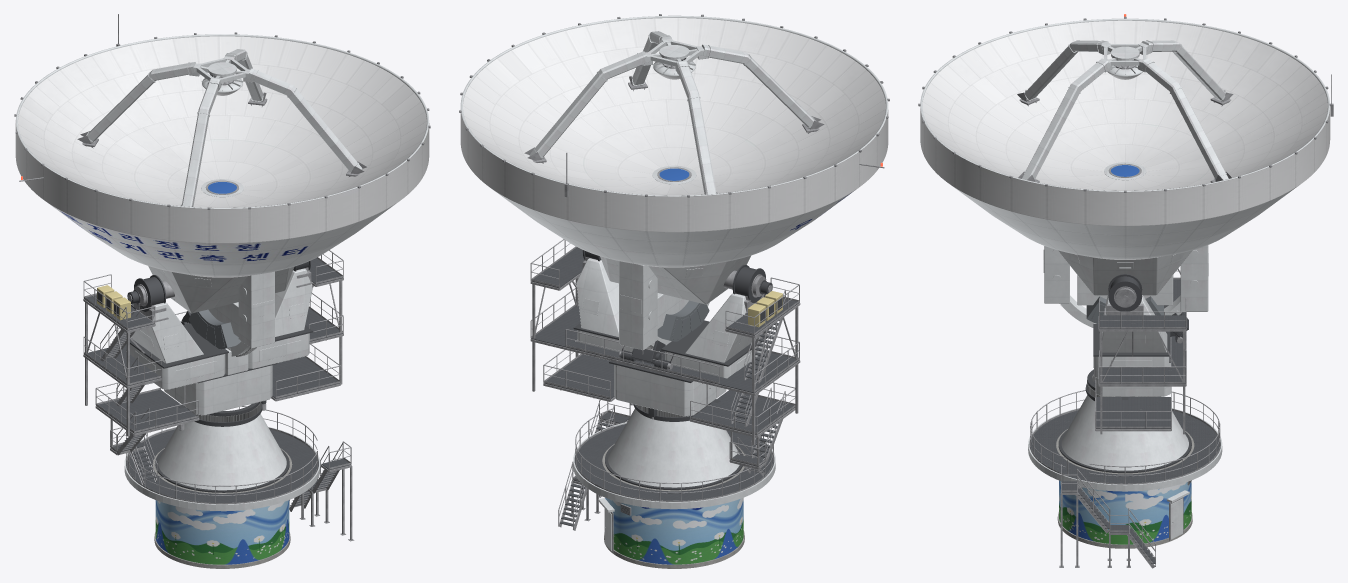
Rendered from sejong22m.glb.
The picture shows the model from 3 angles, left to right: view 1: azimuth 30°, elevation 25°; view 2: azimuth 150°, elevation 25°; view 3: azimuth 270°, elevation 25°; orthographic projection. The views are drawn at different scales.
Visible parts, largest first — view 1: Reflector, Dish_RimBand, Access_Decks, Dish_Back, Pedestal_Cone, Base_Mural, Balcony, El_Girders, Alidade_Box, Hub_Frame, Dish_Lip, Yoke_L (+17 smaller); view 2: Reflector, Access_Decks, Dish_RimBand, Dish_Back, Pedestal_Cone, Base_Mural, Balcony, El_Girders, Alidade_Box, Hub_Frame, Yoke_R, Dish_Lip (+15 smaller); view 3: Reflector, Dish_RimBand, Dish_Back, Access_Decks, Balcony, Base_Mural, Pedestal_Cone, El_Girders, Hub_Frame, Ground_Stair, Dish_Lip, Quadrupod_0 (+13 smaller).
Part boxes in pixels (<box>): Reflector: <box>18,36,426,207</box>; Dish_RimBand: <box>15,123,429,243</box>; Access_Decks: <box>83,250,343,484</box>; Dish_Back: <box>47,202,396,277</box>; Pedestal_Cone: <box>158,414,286,490</box>; Base_Mural: <box>155,500,289,564</box>; Balcony: <box>124,406,320,511</box>; El_Girders: <box>208,271,274,348</box>; Alidade_Box: <box>164,365,272,415</box>; Hub_Frame: <box>148,266,294,313</box>; Dish_Lip: <box>15,34,429,208</box>; Yoke_L: <box>131,303,203,363</box>; Reflector: <box>463,18,885,196</box>; Access_Decks: <box>530,239,800,477</box>; Dish_RimBand: <box>460,110,888,232</box>; Dish_Back: <box>494,190,854,267</box>; Pedestal_Cone: <box>608,408,739,487</box>; Base_Mural: <box>605,498,743,564</box>; Balcony: <box>573,408,775,509</box>; El_Girders: <box>619,261,688,350</box>; Alidade_Box: <box>614,364,726,416</box>; Hub_Frame: <box>600,255,750,304</box>; Yoke_R: <box>576,258,618,336</box>; Dish_Lip: <box>460,15,888,196</box>; Reflector: <box>922,20,1327,191</box>; Dish_RimBand: <box>920,106,1330,225</box>; Dish_Back: <box>952,186,1297,259</box>; Access_Decks: <box>1095,268,1186,434</box>; Balcony: <box>1028,390,1222,491</box>; Base_Mural: <box>1059,480,1191,544</box>; Pedestal_Cone: <box>1061,395,1188,470</box>; El_Girders: <box>1043,245,1208,311</box>; Hub_Frame: <box>1058,250,1192,295</box>; Ground_Stair: <box>1059,464,1155,568</box>; Dish_Lip: <box>920,18,1329,191</box>; Quadrupod_0: <box>1140,58,1228,179</box>.
Size of the model in its own units: 23.82 by 28.22 by 22.52.
Materials: 22 (11 with a texture image).
